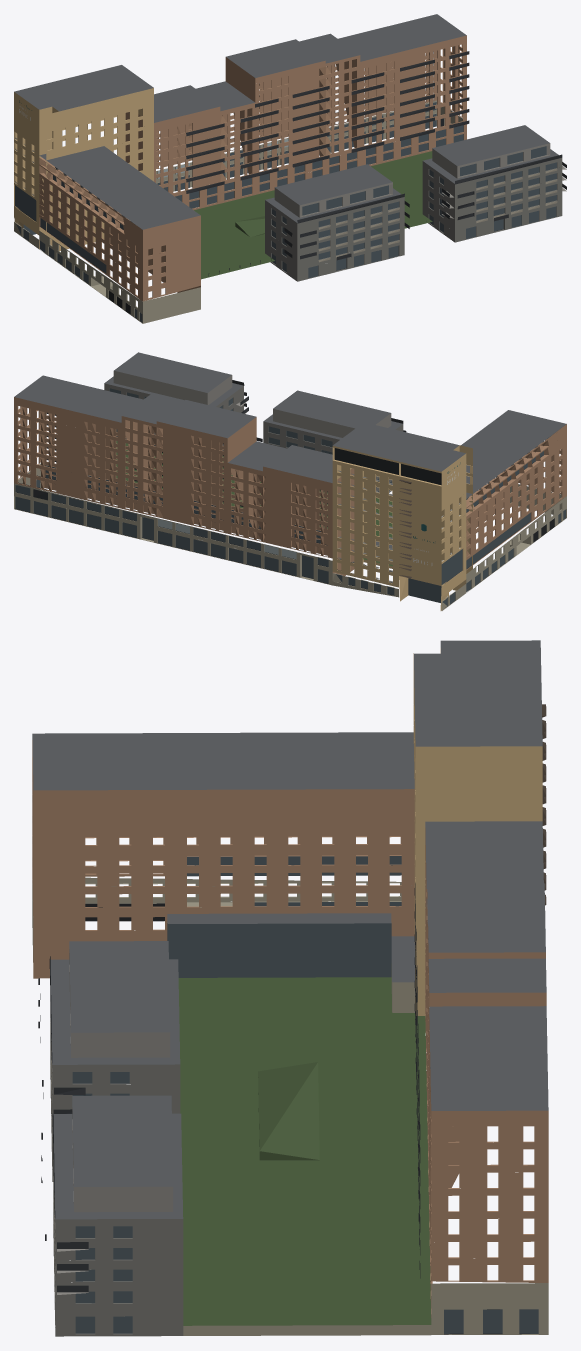
File: andreas-ensemble.lod1.glb
3 renders of one model, top to bottom at view 1: azimuth 30°, elevation 25°; view 2: azimuth 150°, elevation 25°; view 3: azimuth 270°, elevation 25°, orthographic. The views are drawn at different scales.
Visible parts, largest first — view 1: andreas-ensemble; view 2: andreas-ensemble; view 3: andreas-ensemble.
Part boxes in pixels (x1,y1,x2,y2): andreas-ensemble: (14, 14, 566, 323); andreas-ensemble: (14, 352, 566, 610); andreas-ensemble: (32, 640, 548, 1336).
Bounding box in the file's own units: 133 × 41.01 × 68.66.
